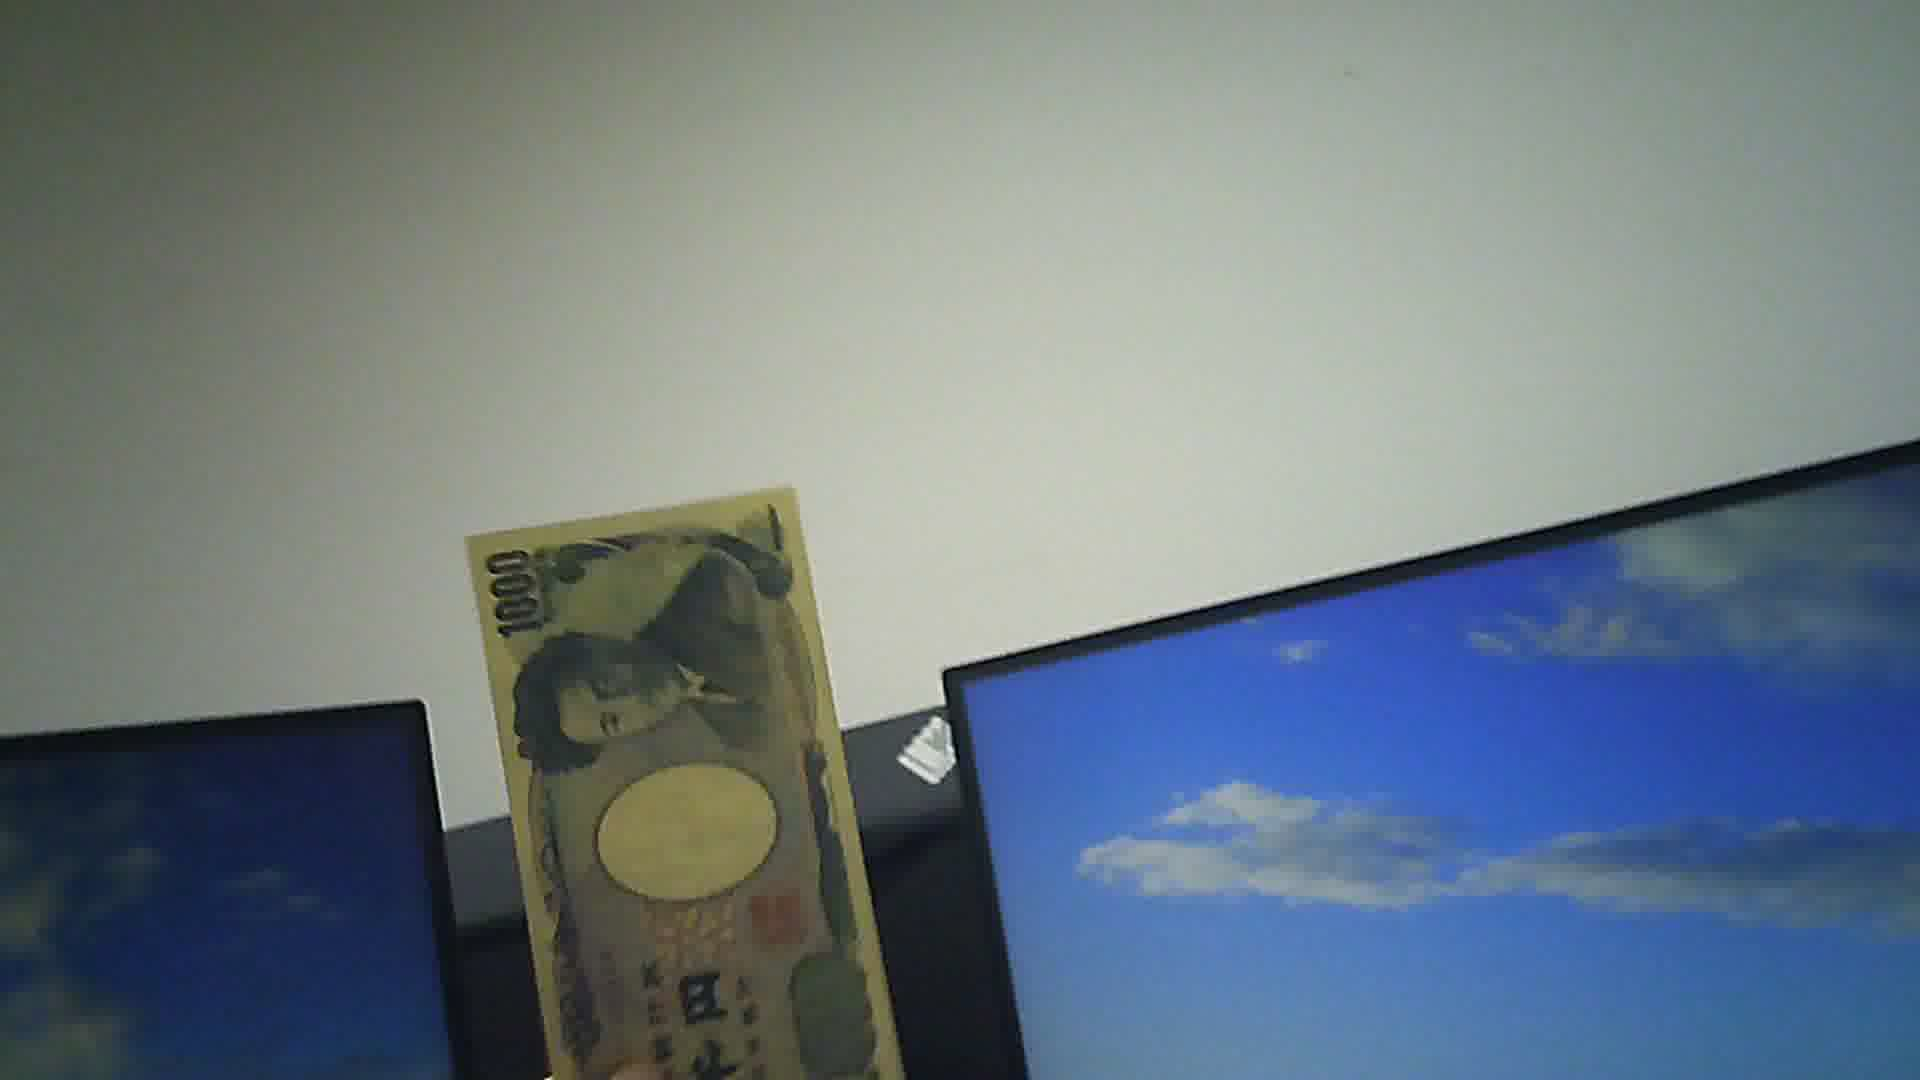1,000 Yen: (447, 483, 909, 1079)
